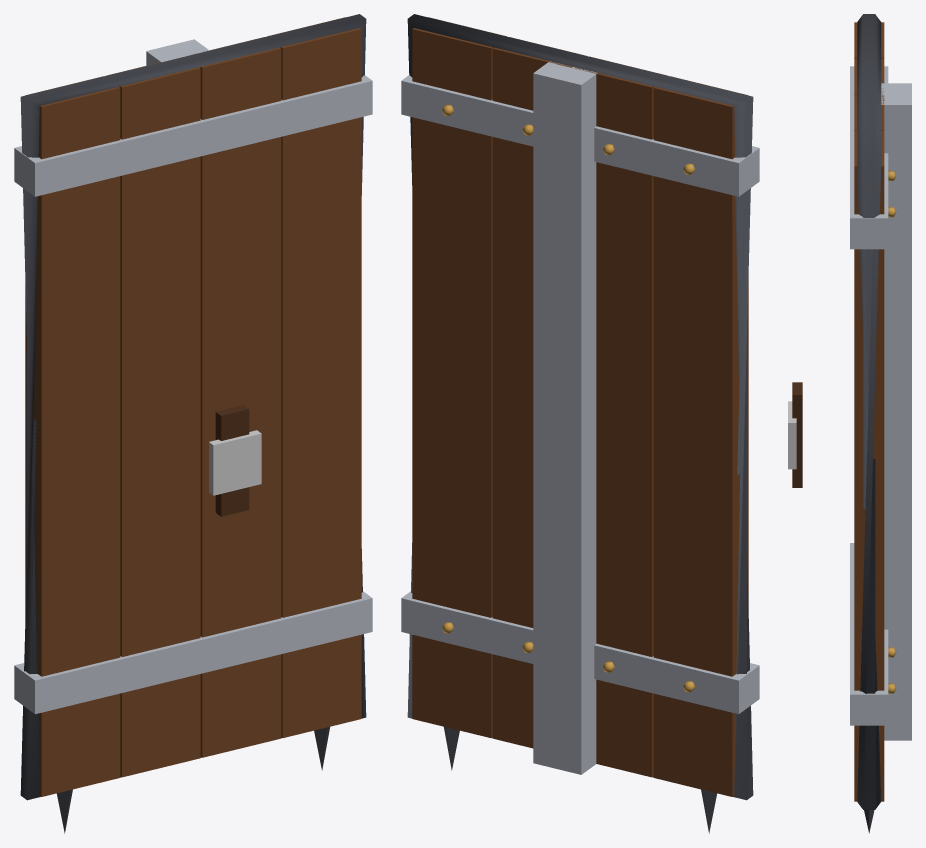
Rendered from shield_pavise.glb.
3 views of the same model, side by side, from view 1: azimuth 30°, elevation 25°; view 2: azimuth 150°, elevation 25°; view 3: azimuth 270°, elevation 25° (orthographic). The views are drawn at different scales.
Parts seen in each view (by area): view 1: Shield_Pavise_Wood, Shield_Pavise_Steel, Shield_Pavise_Darksteel, Shield_Pavise_Trim, Shield_Pavise_Leather; view 2: Shield_Pavise_Wood, Shield_Pavise_Steel, Shield_Pavise_Darksteel, Shield_Pavise_Brass; view 3: Shield_Pavise_Steel, Shield_Pavise_Darksteel, Shield_Pavise_Wood, Shield_Pavise_Leather, Shield_Pavise_Trim, Shield_Pavise_Brass.
Boxes of the visible parts, left/top/right/bottom form: Shield_Pavise_Wood: left=25, top=17, right=361, bottom=796; Shield_Pavise_Steel: left=14, top=39, right=372, bottom=714; Shield_Pavise_Darksteel: left=20, top=14, right=366, bottom=833; Shield_Pavise_Trim: left=209, top=430, right=261, bottom=495; Shield_Pavise_Leather: left=215, top=405, right=249, bottom=516; Shield_Pavise_Wood: left=412, top=17, right=748, bottom=796; Shield_Pavise_Steel: left=401, top=61, right=759, bottom=774; Shield_Pavise_Darksteel: left=407, top=14, right=753, bottom=833; Shield_Pavise_Brass: left=442, top=104, right=695, bottom=692; Shield_Pavise_Steel: left=850, top=66, right=911, bottom=740; Shield_Pavise_Darksteel: left=857, top=14, right=881, bottom=833; Shield_Pavise_Wood: left=854, top=22, right=884, bottom=801; Shield_Pavise_Leather: left=792, top=382, right=802, bottom=487; Shield_Pavise_Trim: left=788, top=401, right=796, bottom=469; Shield_Pavise_Brass: left=888, top=170, right=896, bottom=693.
Bounding box in the file's own units: 0.4218 × 0.8853 × 0.145.
